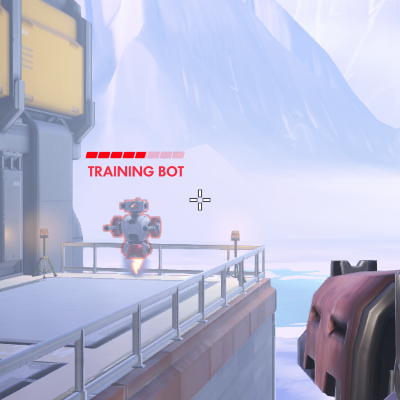hpbar: (85, 151, 185, 159)
